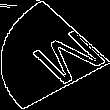M_SE: (8, 21, 102, 89)
